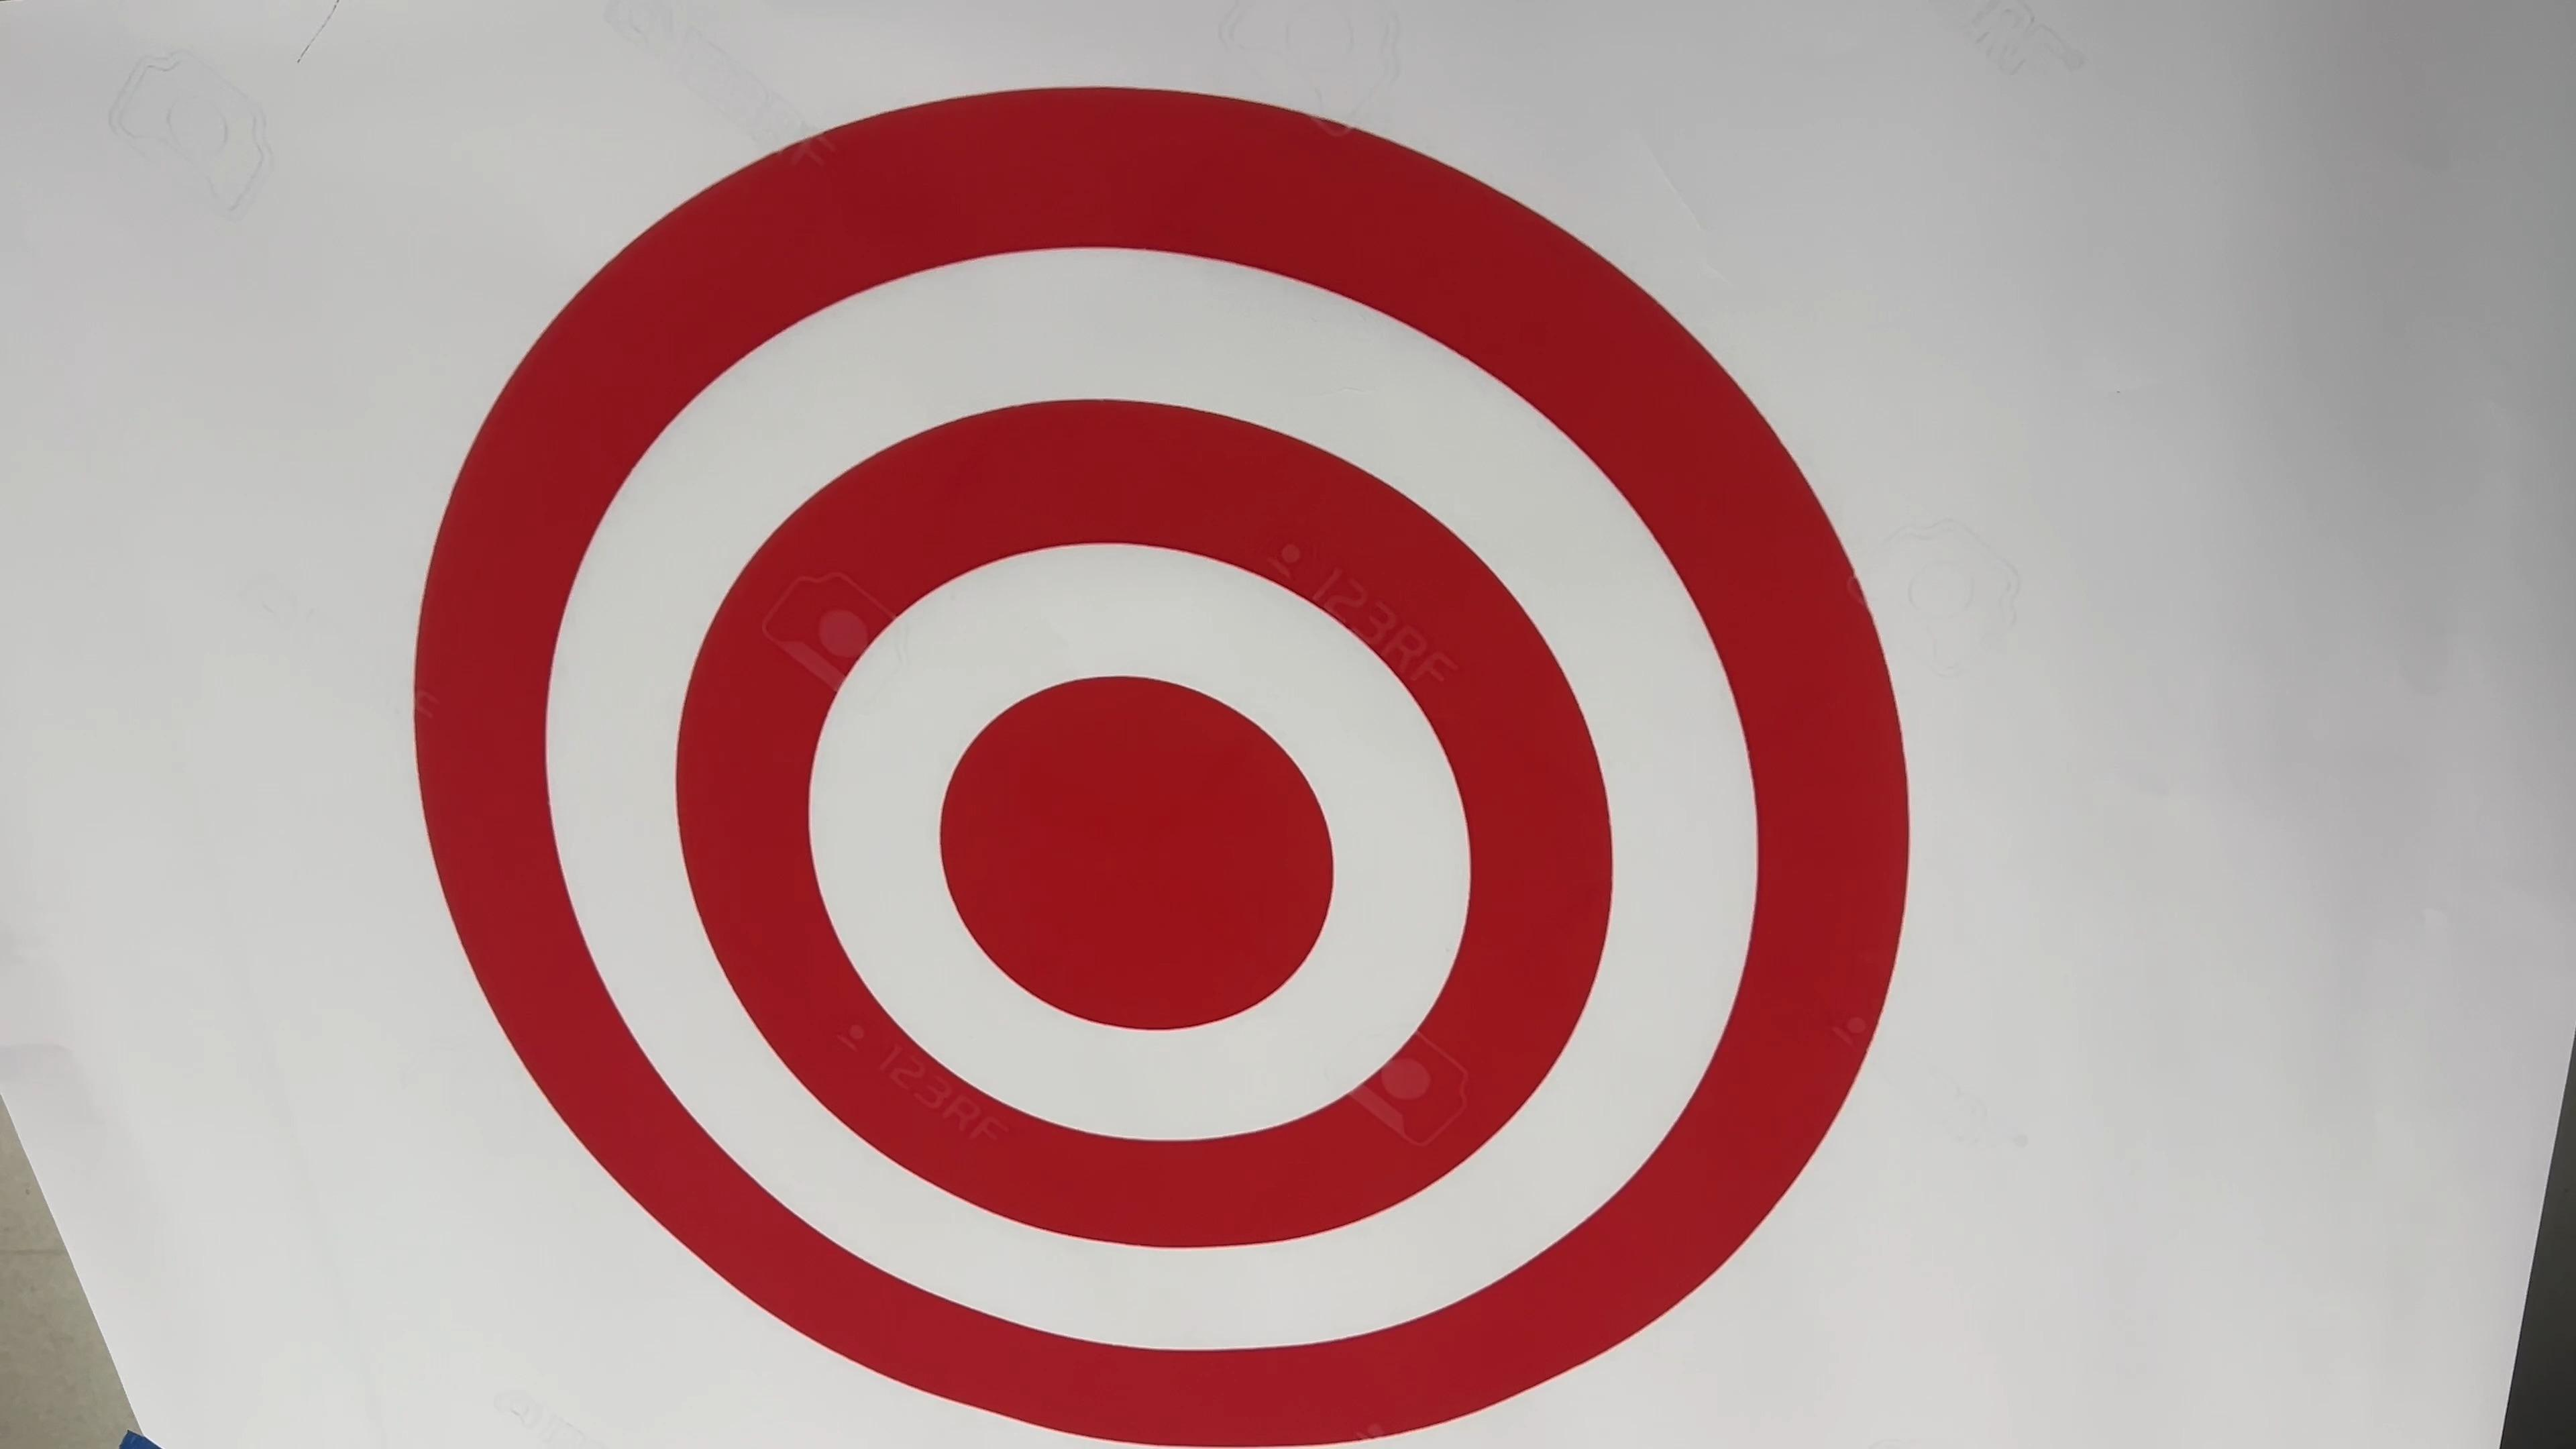target_red: (377, 48, 2010, 1449)
